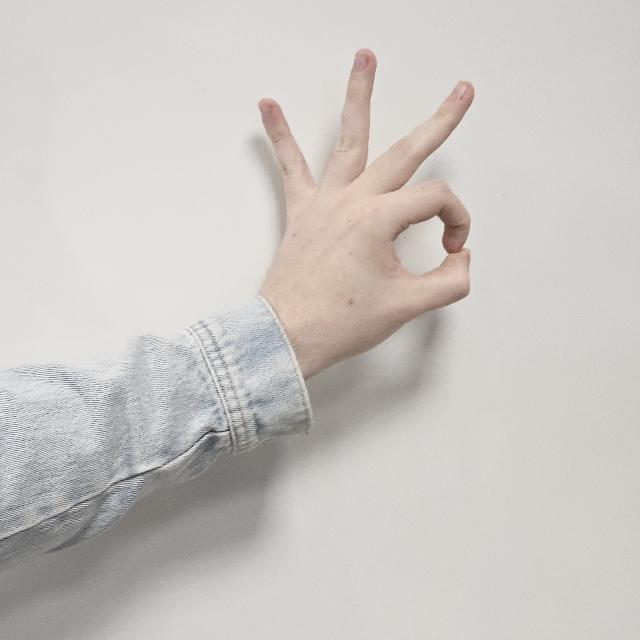Bolinha: (252, 38, 483, 374)
